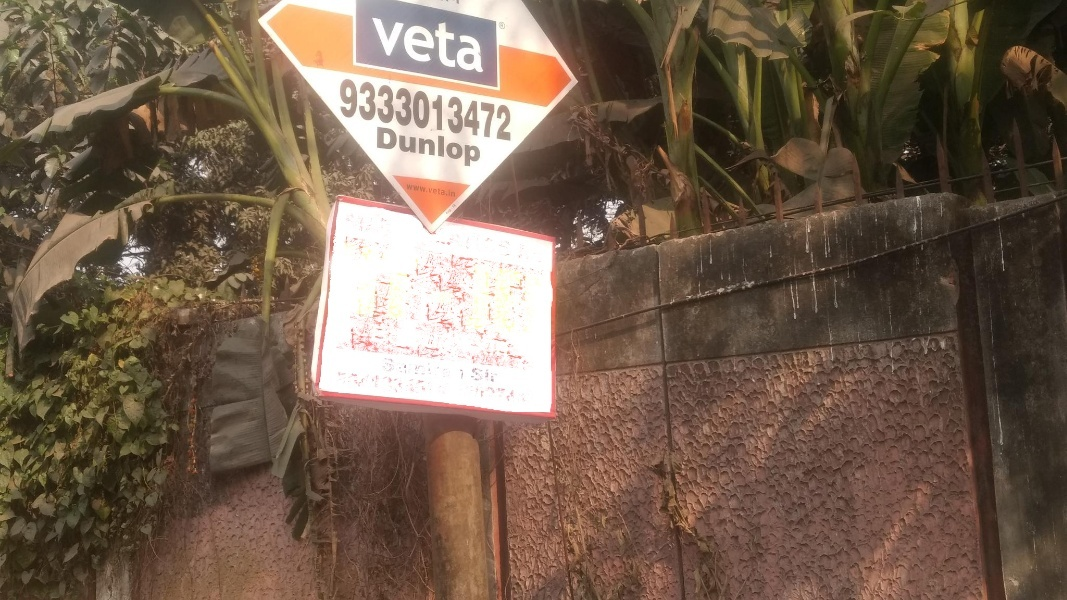text: (353, 74, 368, 143), (369, 74, 384, 143), (385, 74, 400, 143), (401, 74, 416, 143), (417, 74, 432, 143), (433, 74, 448, 143), (449, 74, 464, 143), (465, 74, 480, 143), (481, 74, 496, 143), (497, 74, 512, 143), (340, 74, 352, 143), (385, 18, 400, 73), (401, 18, 416, 73), (417, 18, 432, 73), (433, 18, 448, 73), (449, 18, 464, 73), (465, 18, 480, 73), (372, 18, 384, 73), (385, 127, 400, 168), (401, 127, 416, 168), (417, 127, 432, 168), (433, 127, 448, 168), (449, 127, 464, 168), (465, 127, 480, 168), (353, 366, 368, 406), (369, 366, 384, 406), (385, 366, 400, 406), (401, 366, 416, 406), (417, 366, 432, 406), (433, 366, 448, 406), (449, 366, 464, 406), (465, 366, 480, 406), (481, 366, 496, 406), (497, 366, 512, 406), (513, 366, 528, 406), (338, 366, 352, 406), (465, 232, 480, 266), (481, 232, 496, 266), (497, 232, 512, 266), (513, 232, 528, 266), (529, 232, 542, 266), (385, 355, 400, 383), (401, 355, 416, 383), (417, 355, 432, 383), (433, 355, 448, 383), (449, 355, 464, 383), (465, 355, 480, 383), (481, 355, 496, 383), (353, 209, 368, 237), (369, 209, 384, 237), (385, 209, 400, 237), (452, 232, 464, 266), (481, 18, 486, 73), (378, 127, 384, 168), (417, 182, 432, 197), (433, 182, 448, 197), (513, 74, 516, 143), (481, 127, 485, 168), (407, 182, 416, 197), (449, 182, 458, 197), (500, 21, 512, 30), (381, 355, 384, 383), (349, 209, 352, 237), (529, 366, 531, 406), (449, 1, 462, 7), (497, 355, 499, 383), (440, 1, 448, 7)
